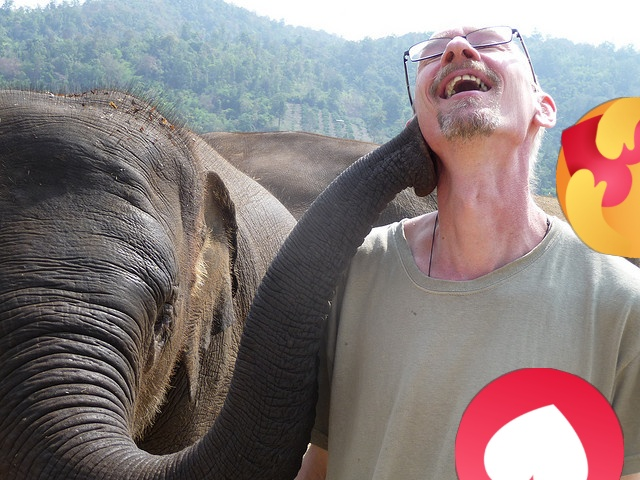care: (556, 97, 640, 258)
love: (455, 368, 624, 480)
